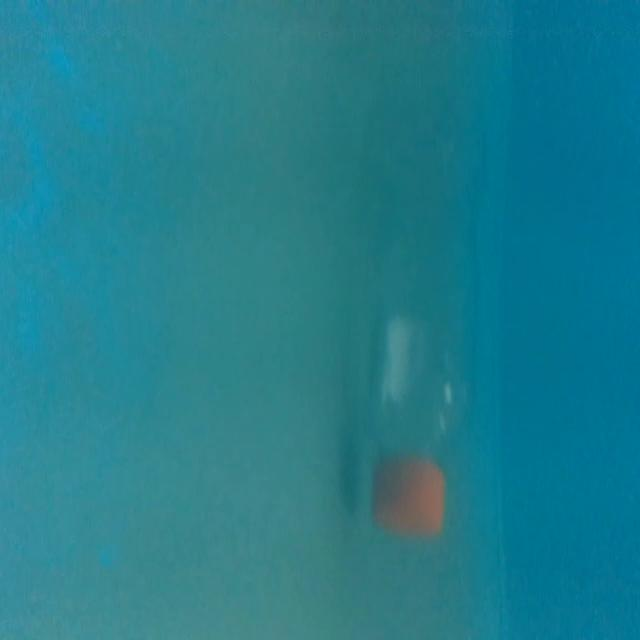plastic bottle: (357, 141, 481, 536)
